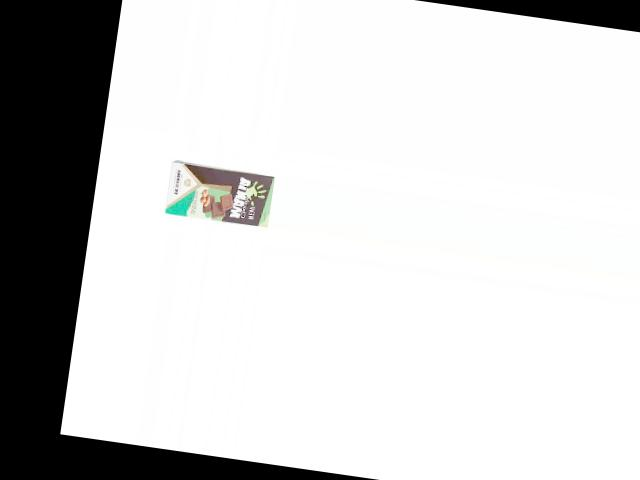chocolate: (162, 158, 277, 230)
